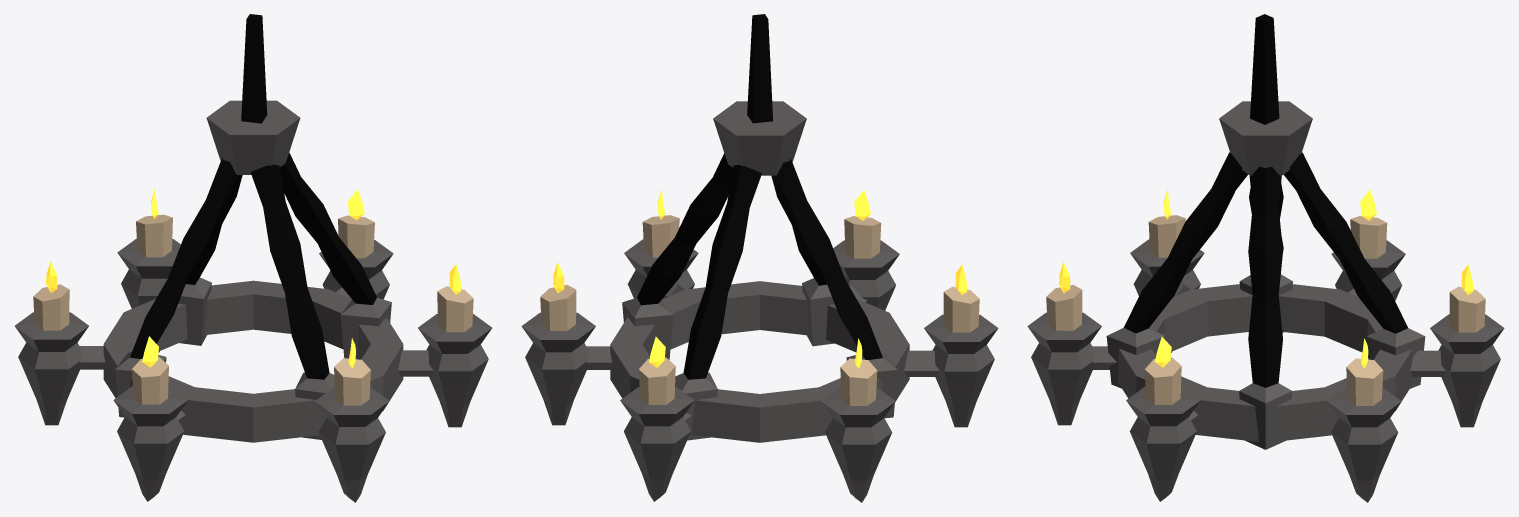
Rendered from chandelier.glb.
The picture shows the model from 3 angles, left to right: view 1: azimuth 30°, elevation 25°; view 2: azimuth 150°, elevation 25°; view 3: azimuth 270°, elevation 25°; orthographic projection.
Visible parts, largest first — view 1: chandelier; view 2: chandelier; view 3: chandelier.
Boxes of the visible parts, x1,y1,x2,y2 form: chandelier: (15, 14, 492, 502); chandelier: (521, 14, 998, 502); chandelier: (1027, 14, 1504, 502).
Bounding box in the file's own units: 1.43 × 1.55 × 1.64.
1 material, 1 textured.
